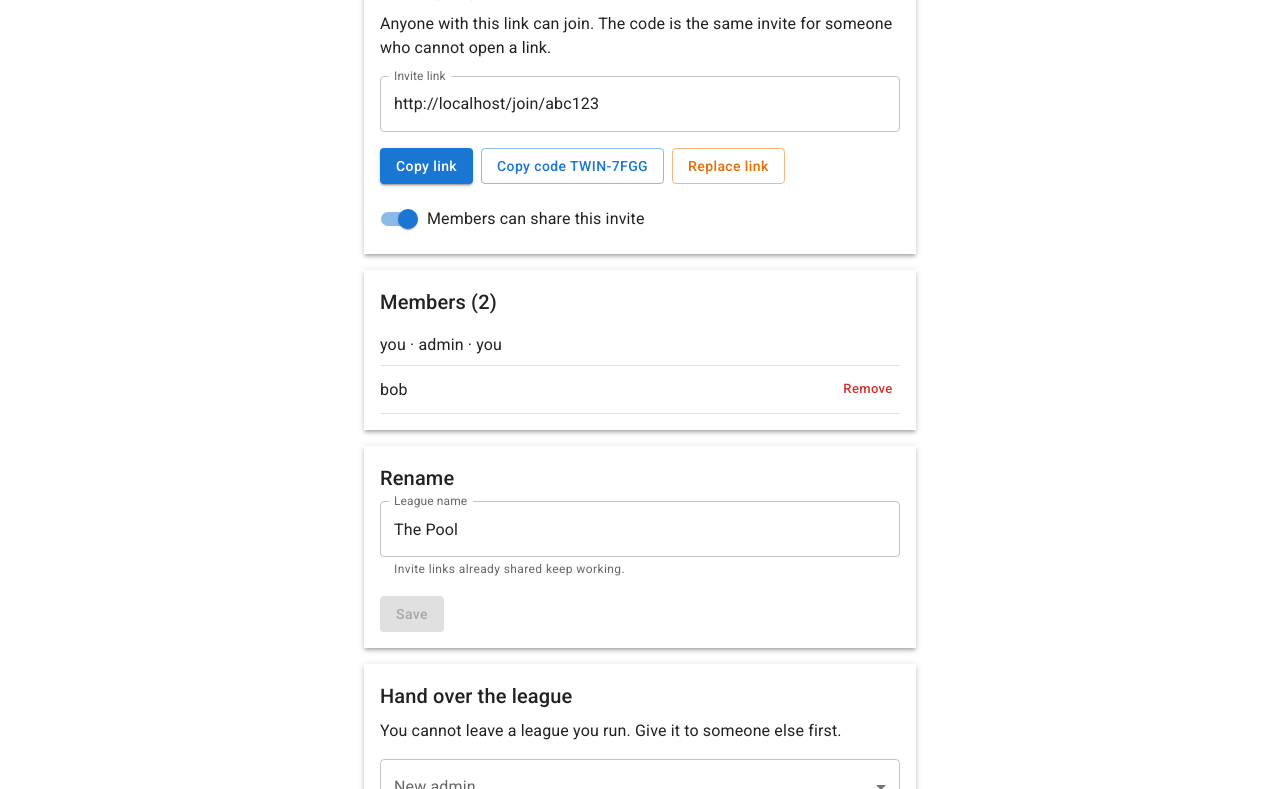
Test: removing someone › asks first, naming them and what it means
(page scrolled)
What coordinates should you click on to do the following:
click the button "Remove"
I would click on:
 (868, 390)
Its box is left=836, top=374, right=900, bottom=405.
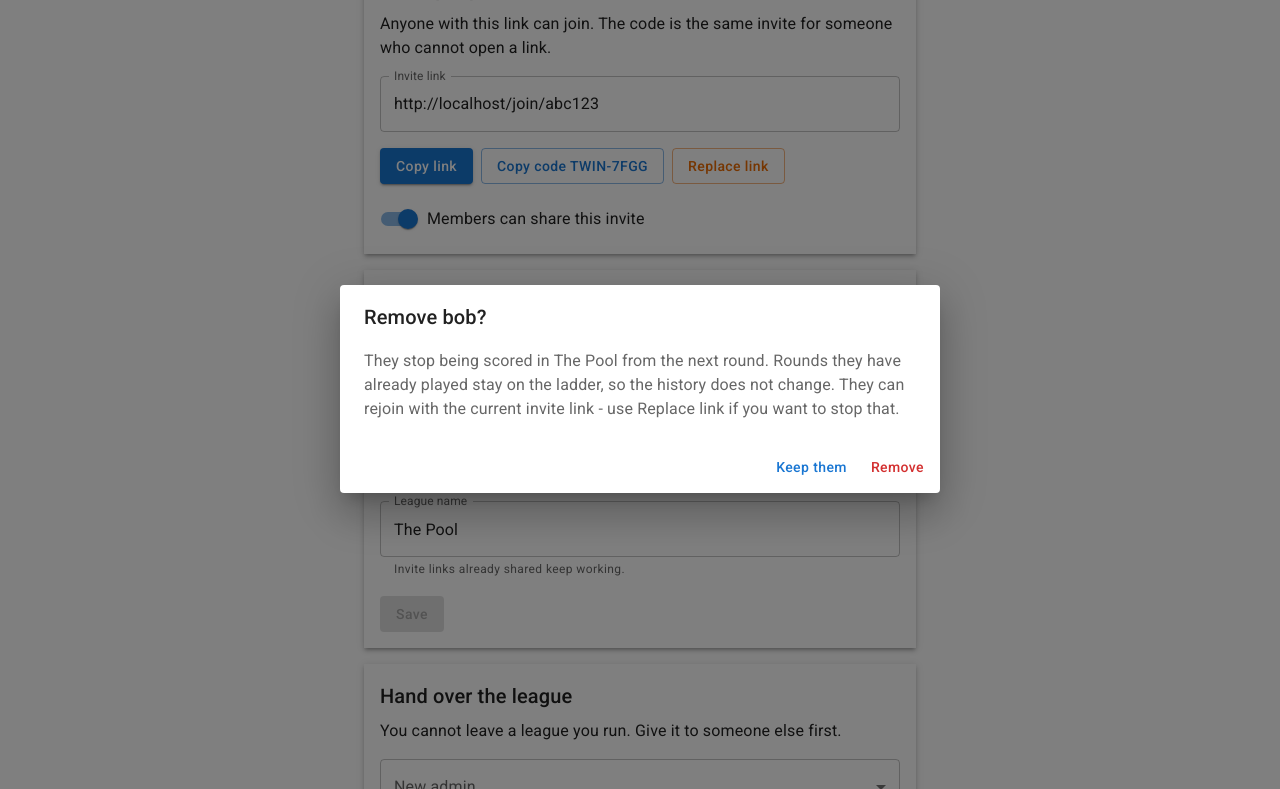
Expected: the heading "Remove bob?" is shown, left=364, top=305, right=487, bottom=329
Expected: the text "They can rejoin with the current invite link" is shown, left=364, top=375, right=904, bottom=418
